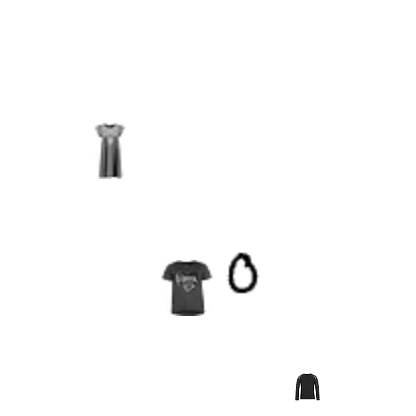0: (358, 45, 386, 73)
5: (195, 354, 237, 396)
Ankle_boot: (40, 84, 82, 126)
Coat: (189, 257, 231, 299)
Dress: (230, 156, 272, 198)
Sandal: (68, 38, 110, 80)
